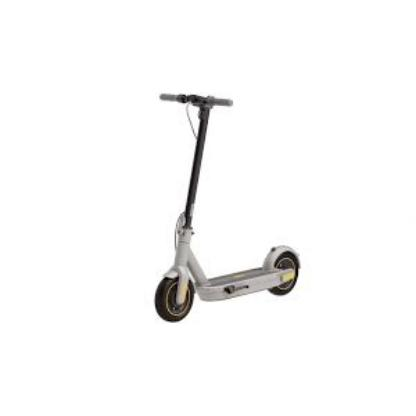bike: (153, 93, 301, 323)
